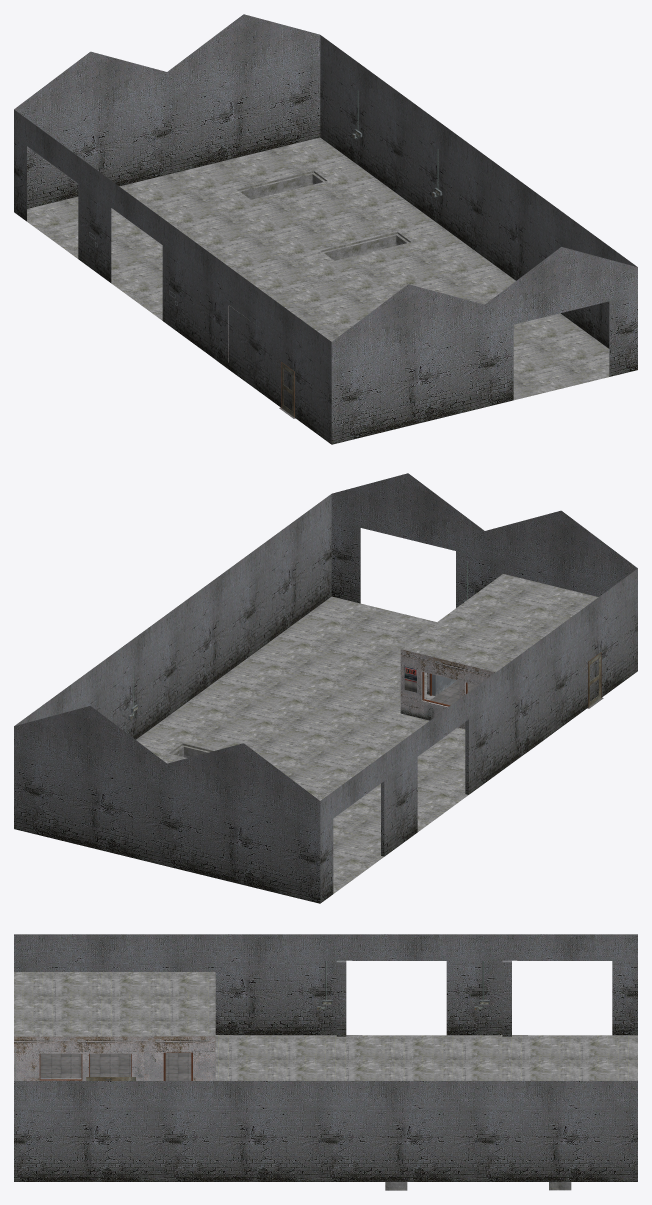
The model's file is hubinterior_sfs.obj.
3 views of the same model, one above another, from view 1: azimuth 30°, elevation 25°; view 2: azimuth 150°, elevation 25°; view 3: azimuth 270°, elevation 25° (orthographic).
Visible parts, largest first — view 1: hubinterior_SFS; view 2: hubinterior_SFS; view 3: hubinterior_SFS.
Part boxes in pixels (<box>): hubinterior_SFS: <box>14,14,637,444</box>; hubinterior_SFS: <box>14,473,637,903</box>; hubinterior_SFS: <box>14,934,637,1190</box>.
Bounding box in the file's own units: 17.9 × 9.48 × 31.96.
Materials: 13 (13 with a texture image).
